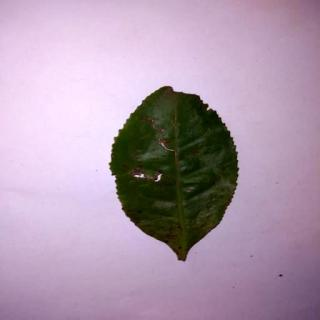Bird Eye Spot: (111, 87, 240, 262)
